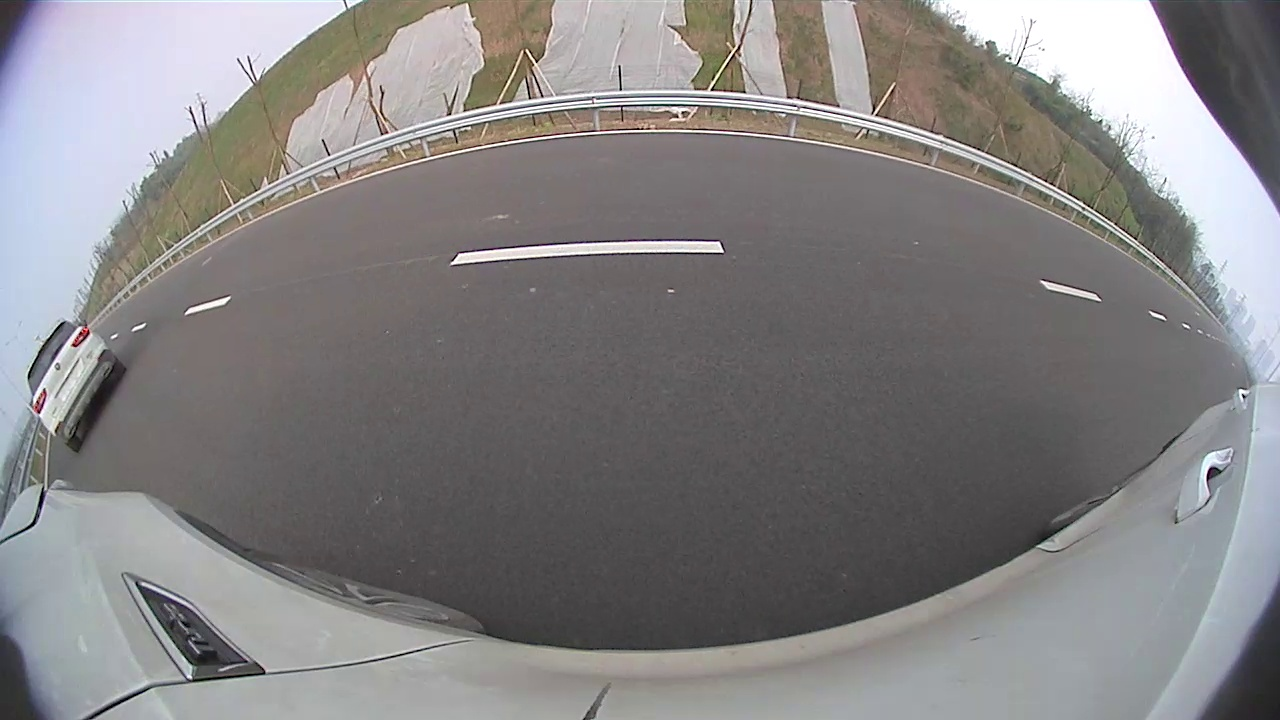car: (435, 140, 560, 225)
rear: (516, 180, 532, 214)
